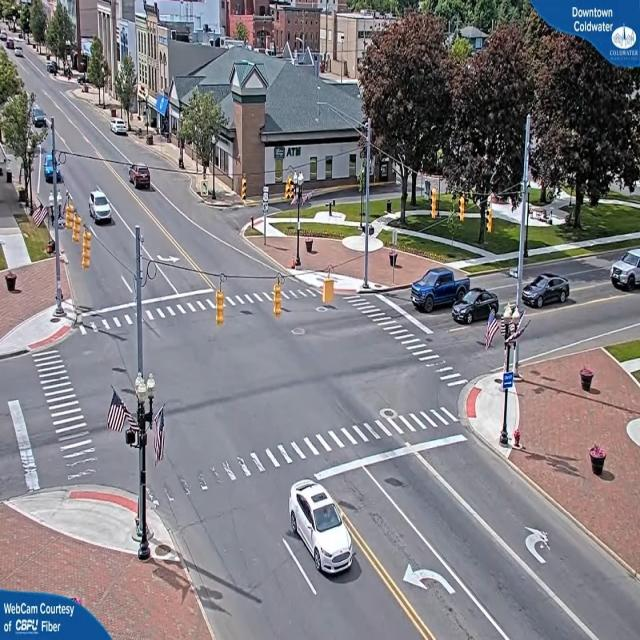car: (288, 480, 352, 578), (412, 268, 466, 314), (523, 271, 571, 308), (454, 287, 499, 325), (609, 250, 639, 292), (88, 189, 115, 224), (129, 164, 154, 191), (112, 120, 129, 136), (15, 47, 24, 59), (14, 44, 24, 54)
